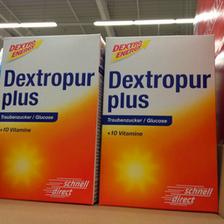Zucker: (96, 34, 220, 212), (1, 33, 100, 204)
